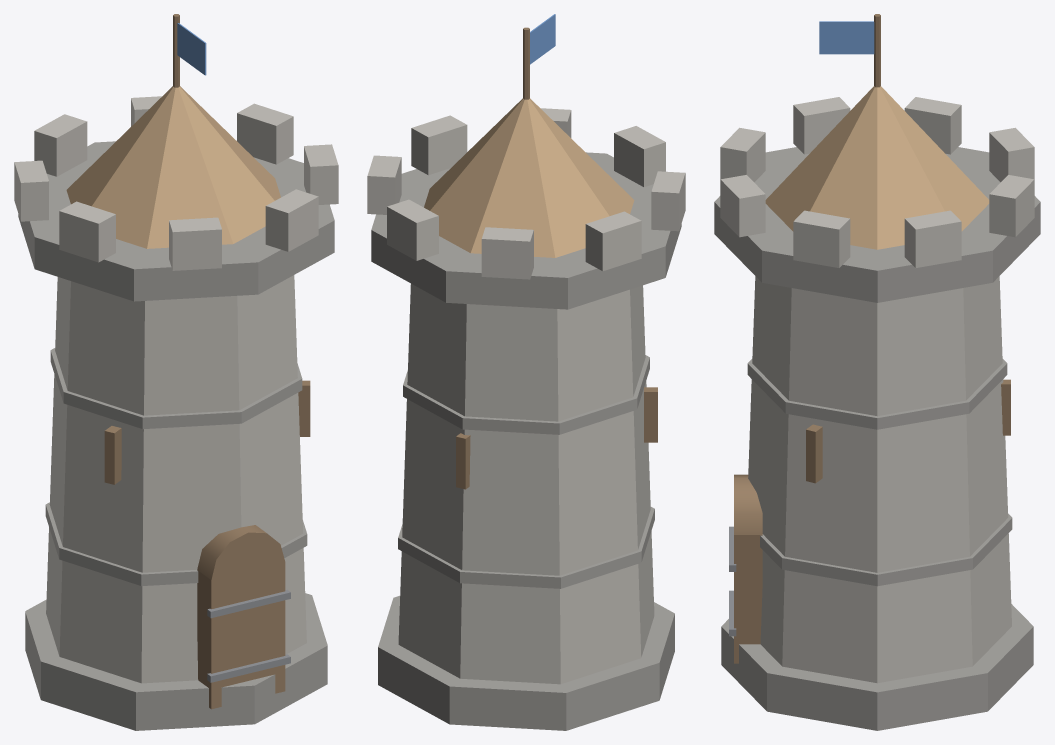
File: hd_tower.glb
3 renders of one model, left to right at view 1: azimuth 30°, elevation 25°; view 2: azimuth 150°, elevation 25°; view 3: azimuth 270°, elevation 25°, orthographic.
Parts seen in each view (by area): view 1: hd_tower; view 2: hd_tower; view 3: hd_tower.
Boxes of the visible parts, x1=… form: hd_tower: x1=14, y1=14, x2=338, y2=730; hd_tower: x1=367, y1=14, x2=685, y2=730; hd_tower: x1=714, y1=14, x2=1040, y2=730.
Bounding box in the file's own units: 4.6 × 10.1 × 4.6.
